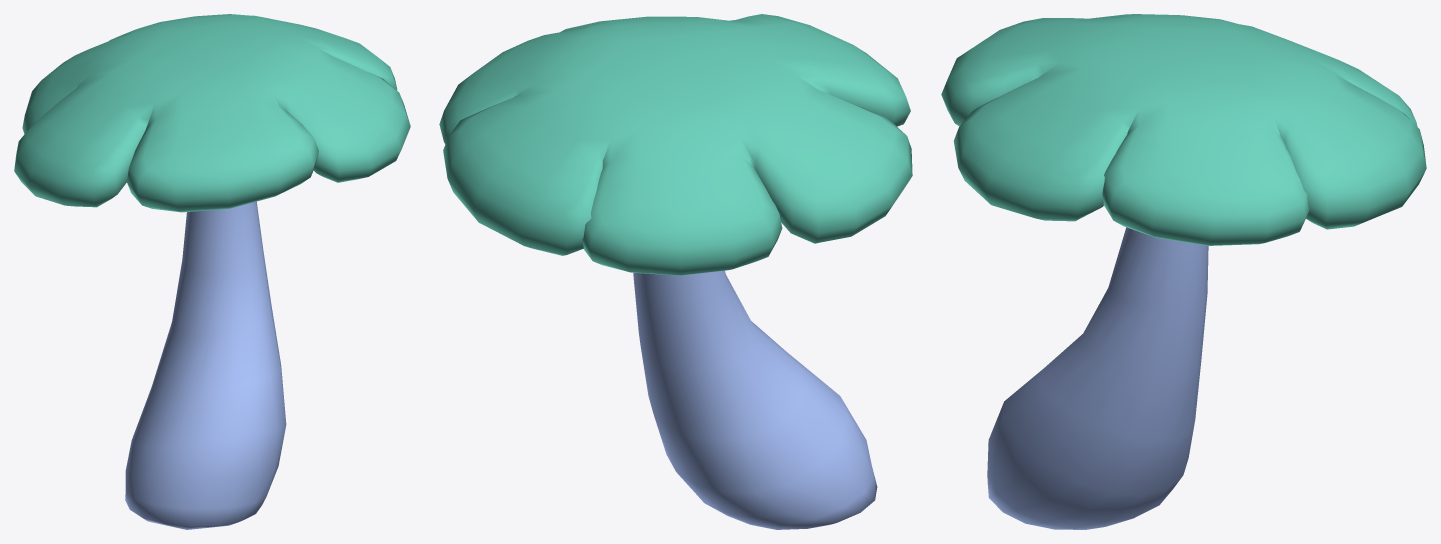
The model's file is Shroom_A_03.fbx.
3 renders of one model, left to right at view 1: azimuth 30°, elevation 25°; view 2: azimuth 150°, elevation 25°; view 3: azimuth 270°, elevation 25°, orthographic. The views are drawn at different scales.
Parts seen in each view (by area): view 1: Shroom_A_03_LOD0; view 2: Shroom_A_03_LOD0; view 3: Shroom_A_03_LOD0.
Part boxes in pixels (<box>): Shroom_A_03_LOD0: <box>14,14,410,529</box>; Shroom_A_03_LOD0: <box>439,14,912,529</box>; Shroom_A_03_LOD0: <box>941,14,1426,529</box>.
Size of what is drawn, in the model's own units: 642 by 684 by 617.
